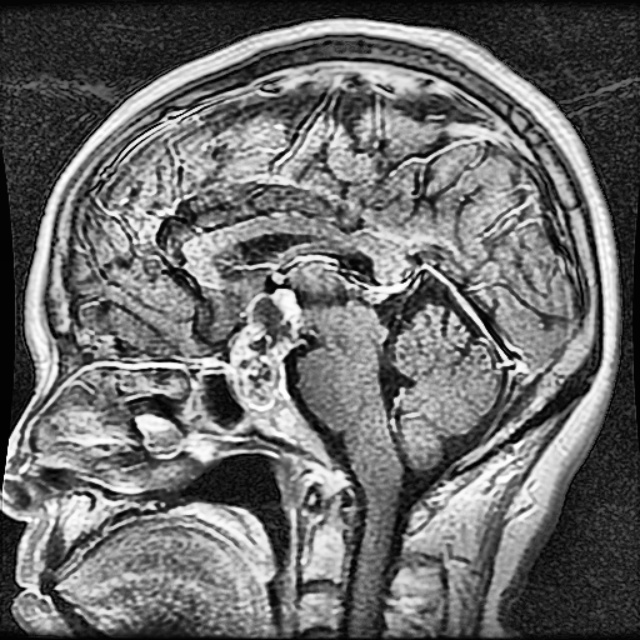Pituitary: (230, 289, 299, 409)
